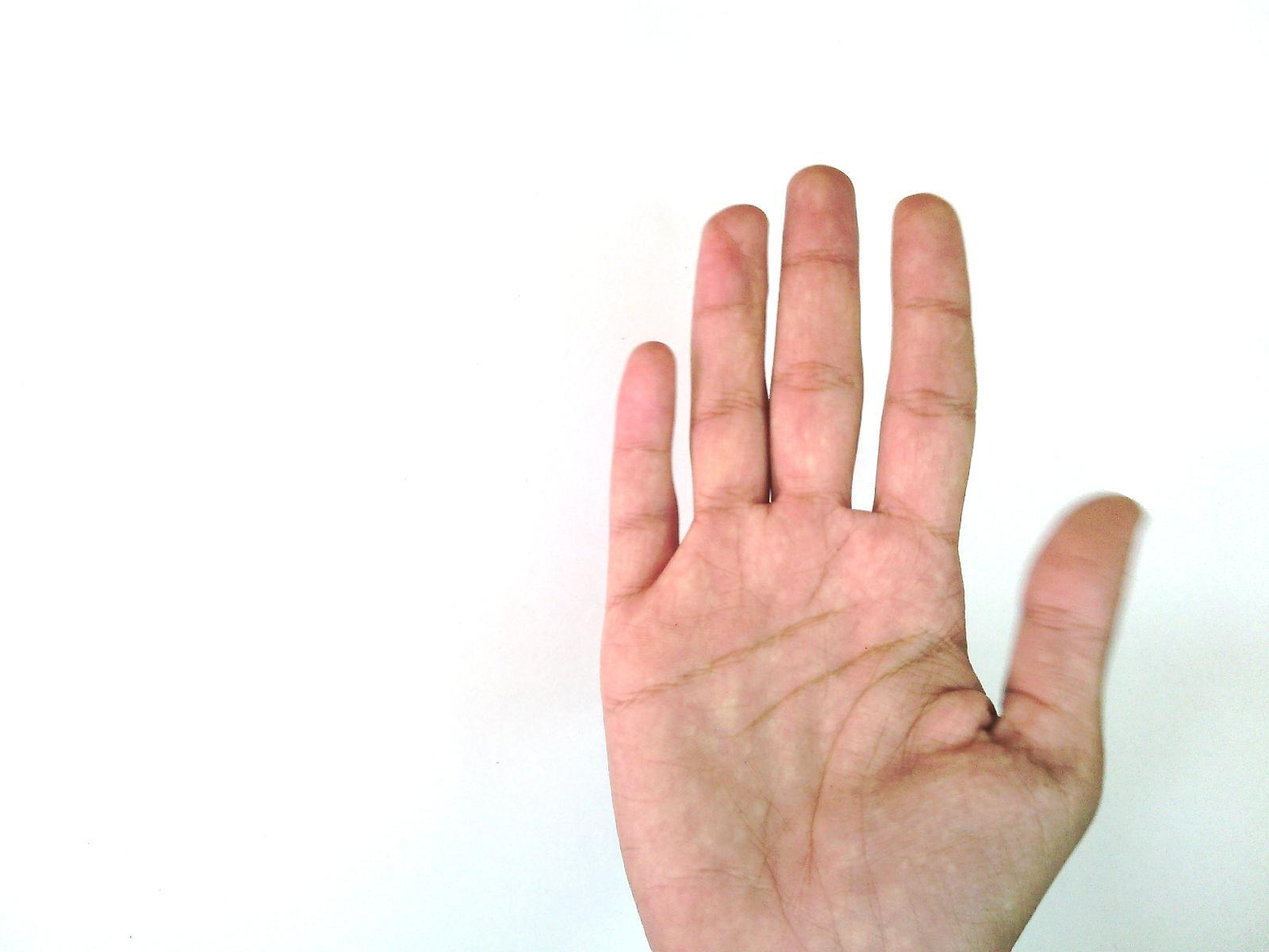open_palm: (596, 163, 1148, 952)
